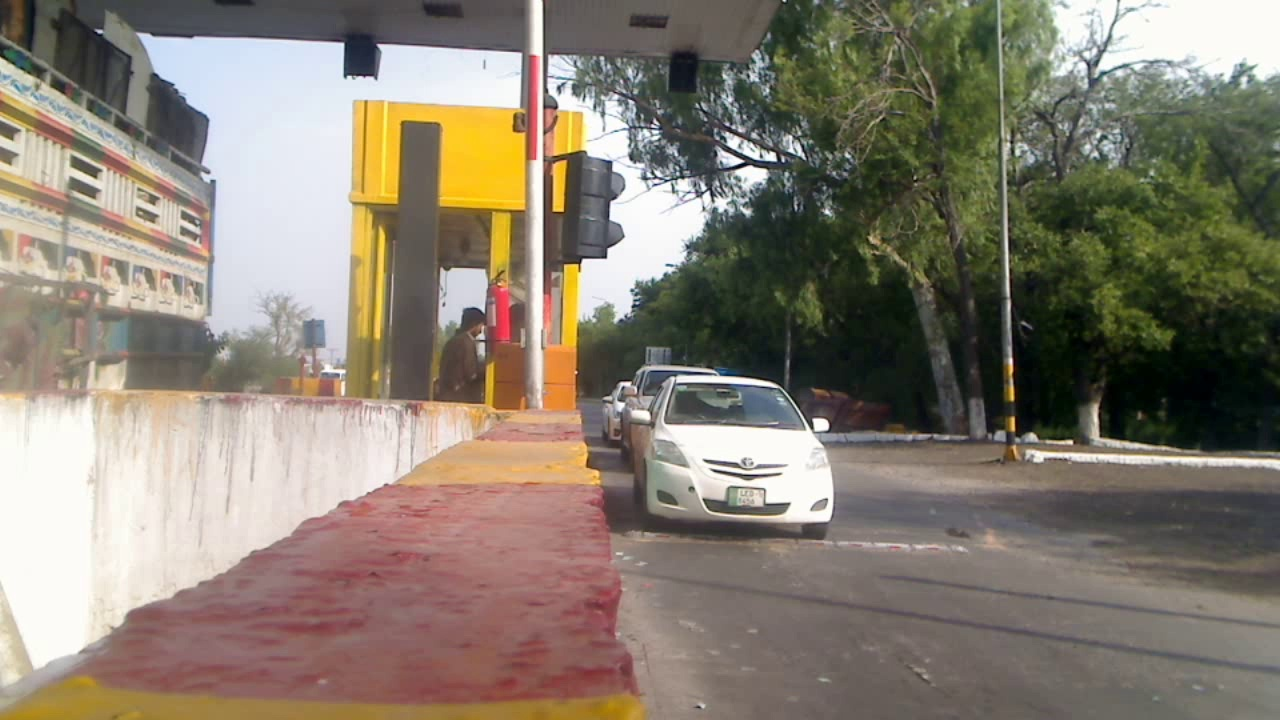Number Plate (Car): (730, 487, 765, 504)
